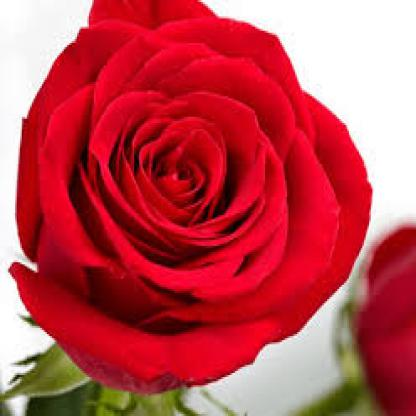Rose-Mawar: (1, 1, 374, 391)
